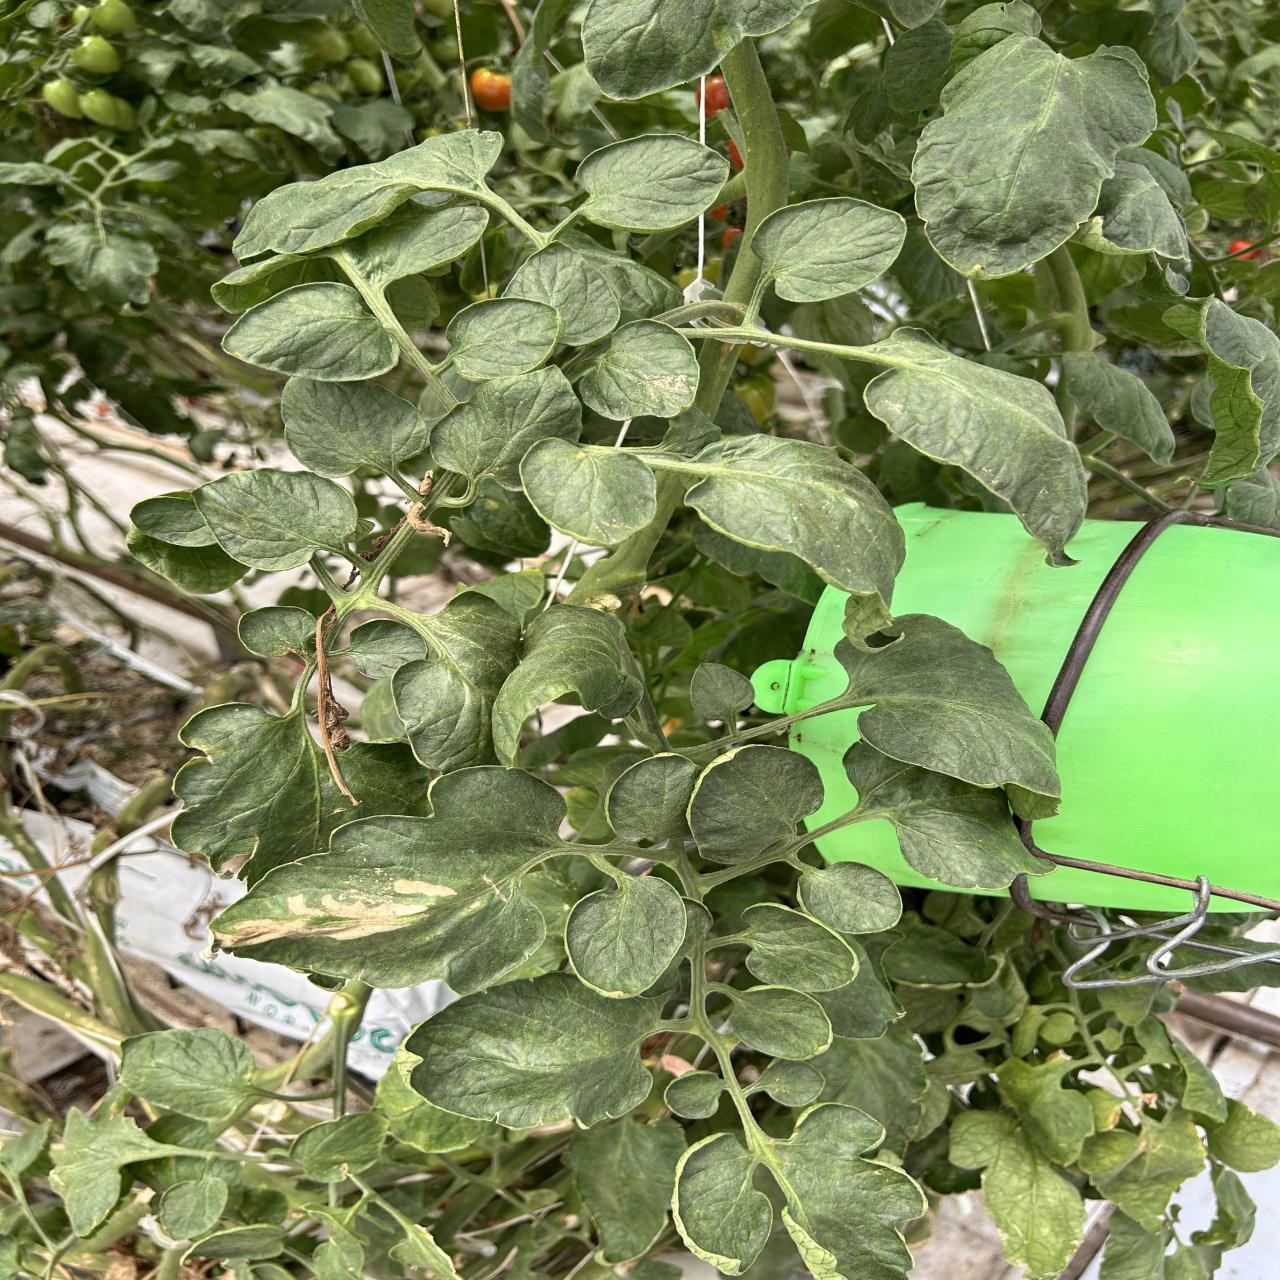Rugose leaf: (211, 767, 588, 993), (864, 331, 1088, 563), (678, 435, 904, 600), (519, 438, 656, 546), (578, 320, 700, 421)
